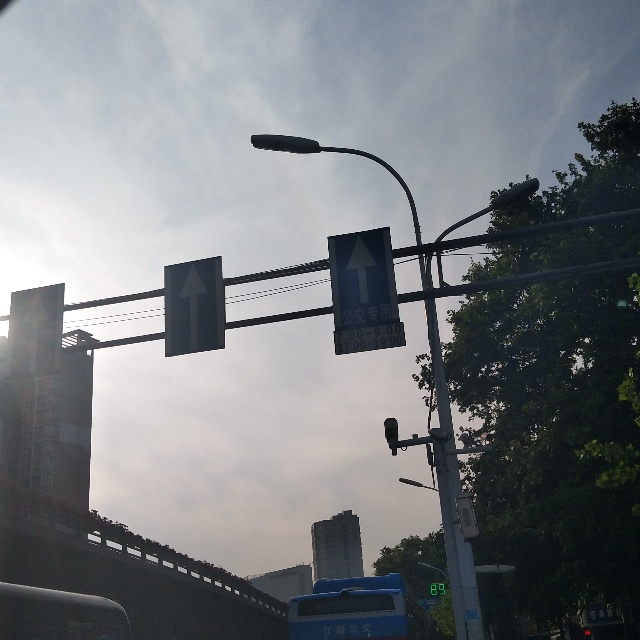straight: (330, 235, 396, 310), (165, 268, 224, 351), (8, 293, 65, 372)
